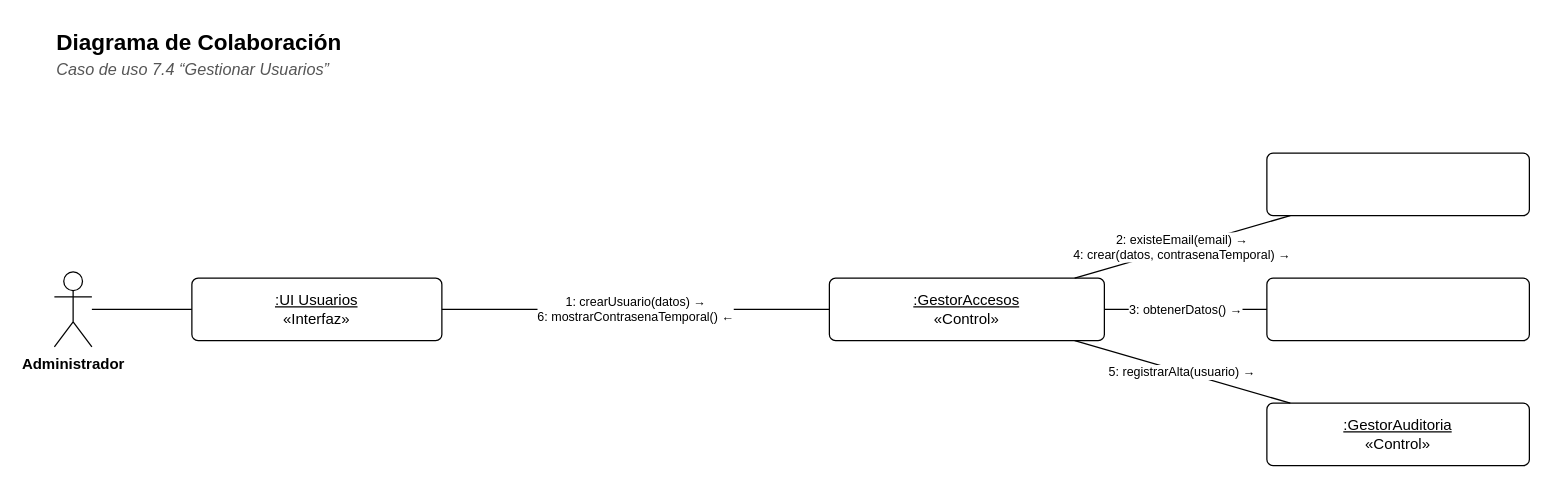
This 1551x488 diagram has some shape labels left out. The box of each missing label's shape, as (x1, y1, x2, y2) in pixels:
:Profesional «Entidad»: (1266, 277, 1529, 341)
:Usuario «Entidad»: (1266, 152, 1529, 216)
